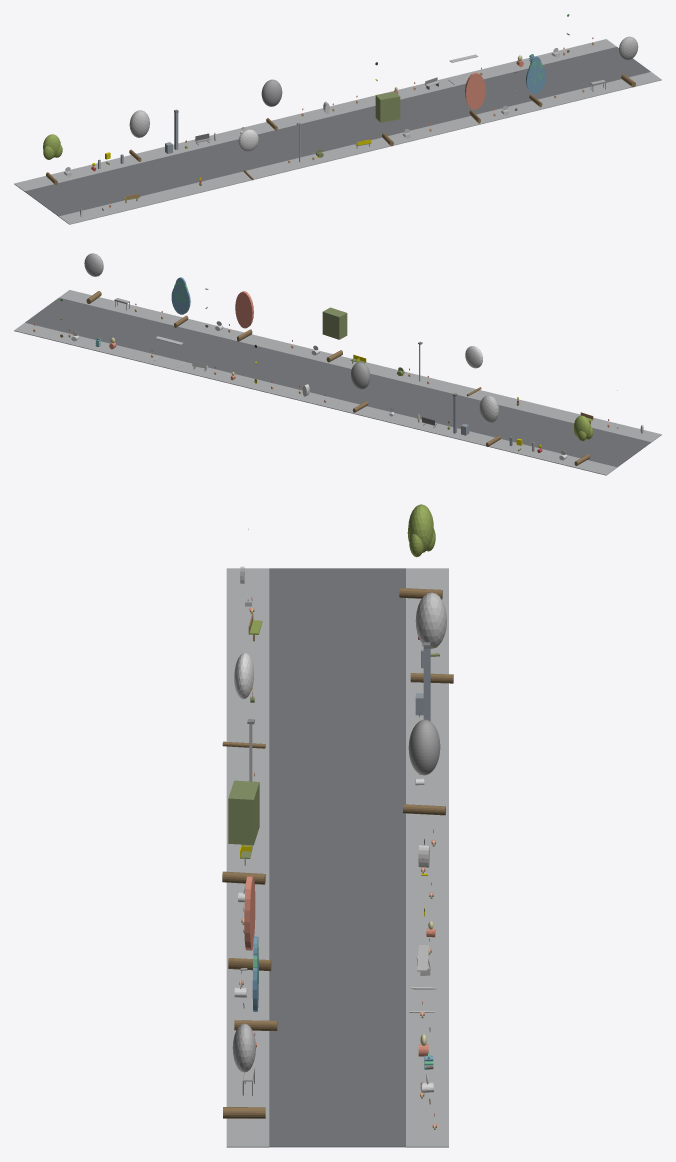
3 views of the same model, one above another, from view 1: azimuth 30°, elevation 25°; view 2: azimuth 150°, elevation 25°; view 3: azimuth 270°, elevation 25° (orthographic). The views are drawn at different scales.
Visible parts, largest first — view 1: road_slab, sidewalk_left, sidewalk_right, inst_0022, inst_0023, inst_0024, inst_0019, inst_0021, inst_0018, inst_0025, inst_0020; view 2: road_slab, sidewalk_right, sidewalk_left, inst_0022, inst_0023, inst_0024, inst_0019, inst_0021, inst_0018, inst_0025, inst_0020; view 3: road_slab, sidewalk_right, sidewalk_left, inst_0022, inst_0021, inst_0019, inst_0018, inst_0025, inst_0023, inst_0020.
Part boxes in pixels (left/top/right/bottom): road_slab: left=24, top=47, right=650, bottom=216; sidewalk_left: left=59, top=72, right=661, bottom=224; sidewalk_right: left=14, top=39, right=616, bottom=191; inst_0022: left=375, top=91, right=400, bottom=146; inst_0023: left=465, top=72, right=485, bottom=123; inst_0024: left=526, top=56, right=545, bottom=107; inst_0019: left=129, top=110, right=149, bottom=161; inst_0021: left=261, top=79, right=282, bottom=130; inst_0018: left=43, top=134, right=62, bottom=184; inst_0025: left=619, top=36, right=638, bottom=87; inst_0020: left=238, top=129, right=258, bottom=180; road_slab: left=25, top=297, right=650, bottom=467; sidewalk_right: left=14, top=323, right=616, bottom=475; sidewalk_left: left=59, top=290, right=661, bottom=442; inst_0022: left=322, top=307, right=347, bottom=362; inst_0023: left=235, top=291, right=253, bottom=341; inst_0024: left=171, top=277, right=190, bottom=327; inst_0019: left=479, top=395, right=500, bottom=446; inst_0021: left=351, top=362, right=370, bottom=412; inst_0018: left=574, top=415, right=592, bottom=465; inst_0025: left=84, top=253, right=103, bottom=303; inst_0020: left=465, top=346, right=482, bottom=396; road_slab: left=269, top=568, right=405, bottom=1147; sidewalk_right: left=406, top=568, right=448, bottom=1147; sidewalk_left: left=226, top=568, right=269, bottom=1147; inst_0022: left=222, top=780, right=265, bottom=884; inst_0021: left=403, top=719, right=445, bottom=815; inst_0019: left=410, top=592, right=453, bottom=683; inst_0018: left=399, top=504, right=442, bottom=599; inst_0025: left=223, top=1023, right=265, bottom=1118; inst_0023: left=228, top=876, right=271, bottom=971; inst_0020: left=222, top=652, right=265, bottom=748.
Size of the model in its own units: 80 by 6.08 by 13.54.
